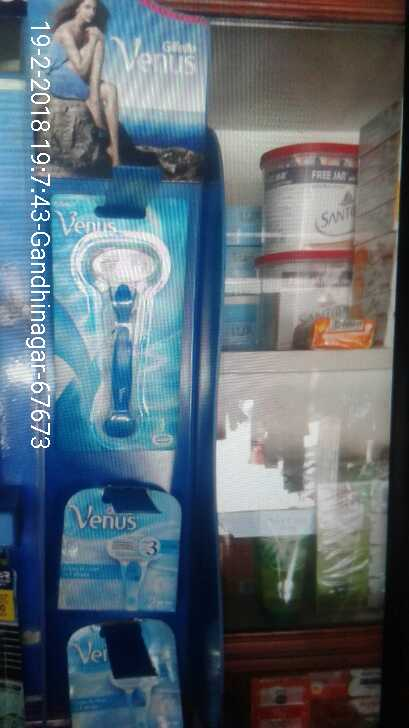venus: (53, 192, 180, 456), (55, 483, 182, 618)
